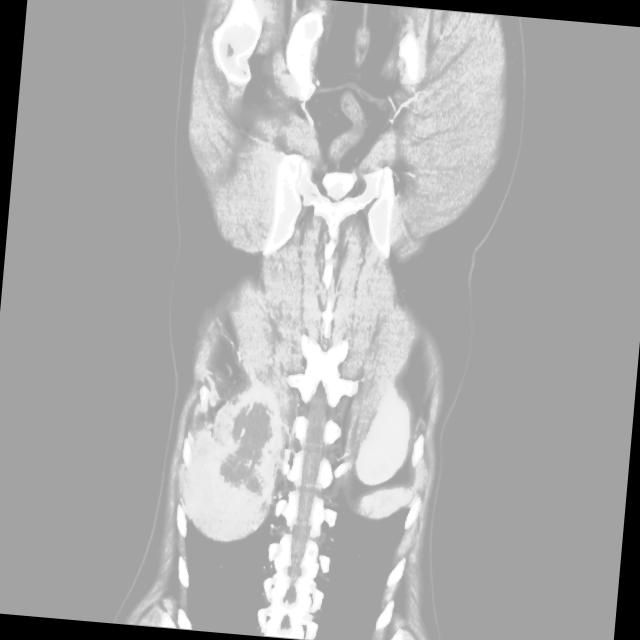TUMOR: (97, 155, 561, 573)
